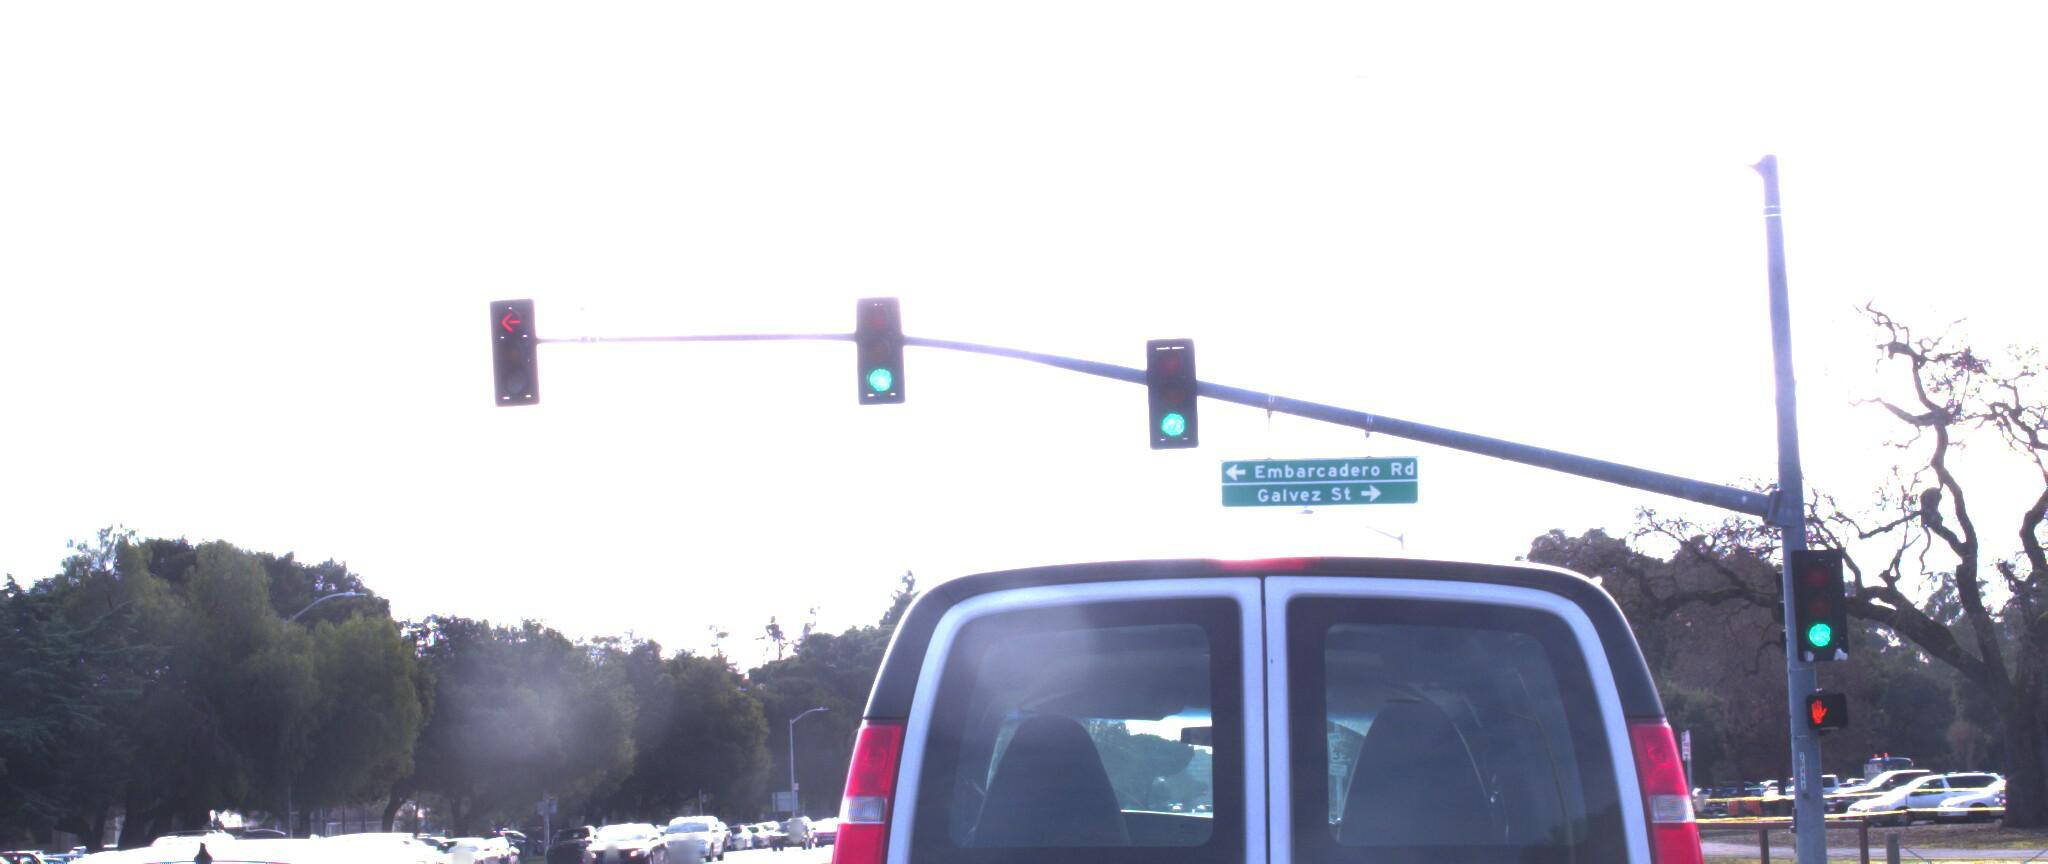car: (756, 536, 1785, 864), (0, 791, 643, 864)
